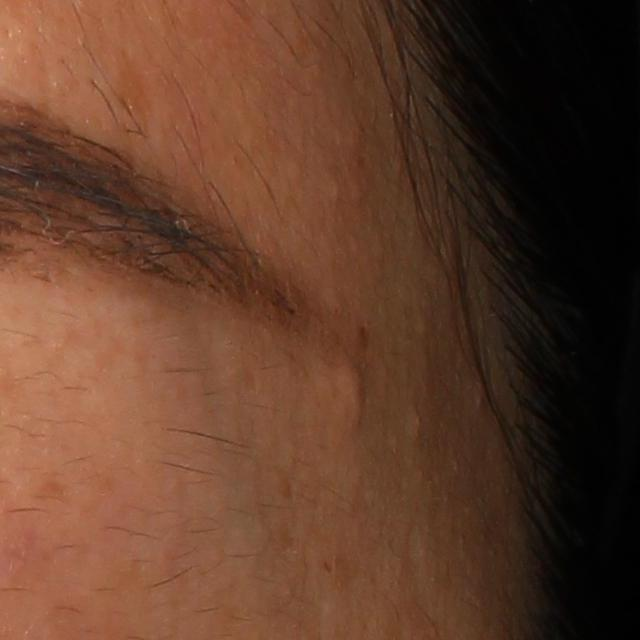papule: (338, 363, 369, 415)
